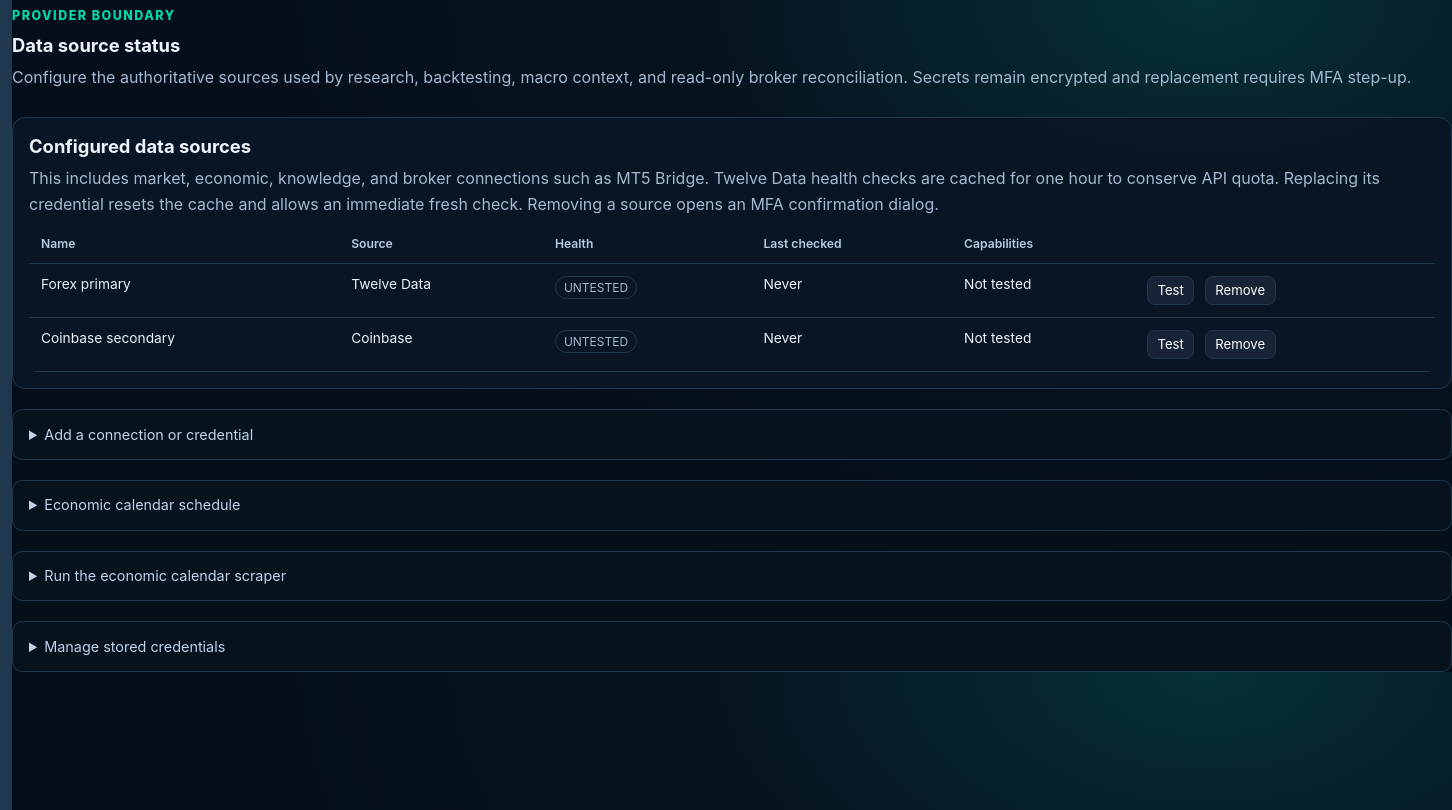
Scenario: cached Twelve Data results retain the quota explanation for that source
The image size is (1452, 810).
Click the button "Test" in the row of "Forex primary".
click(1171, 290)  # box [1147,276,1194,305]
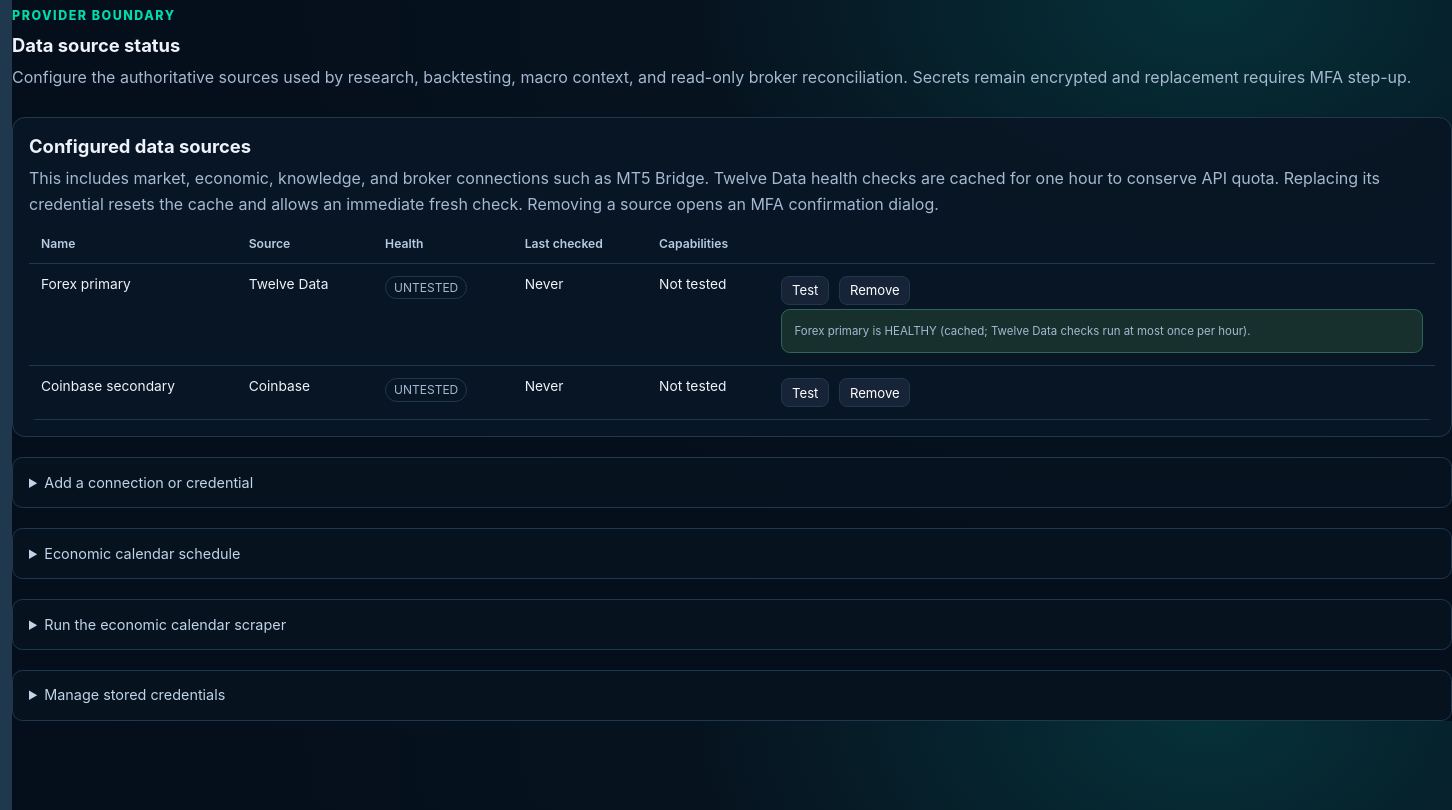
Expected: the message shows "cached; Twelve Data checks run at most once per hour", [794,324,1250,338]
